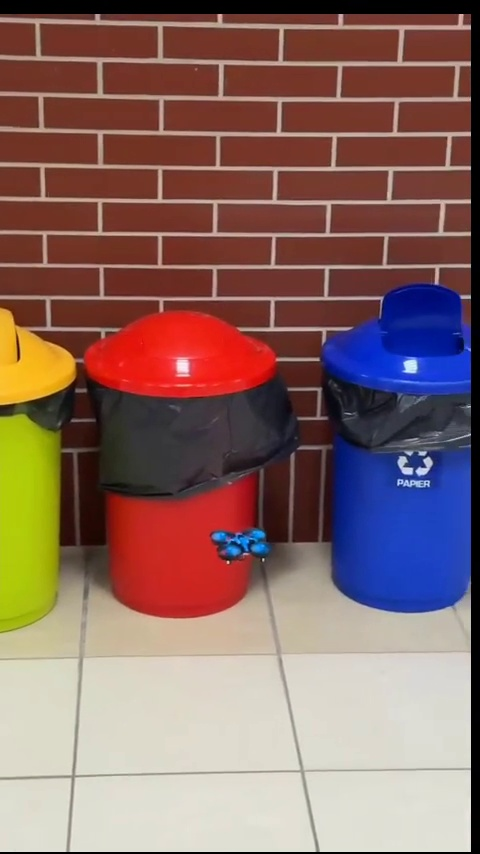drone: (210, 529, 272, 565)
